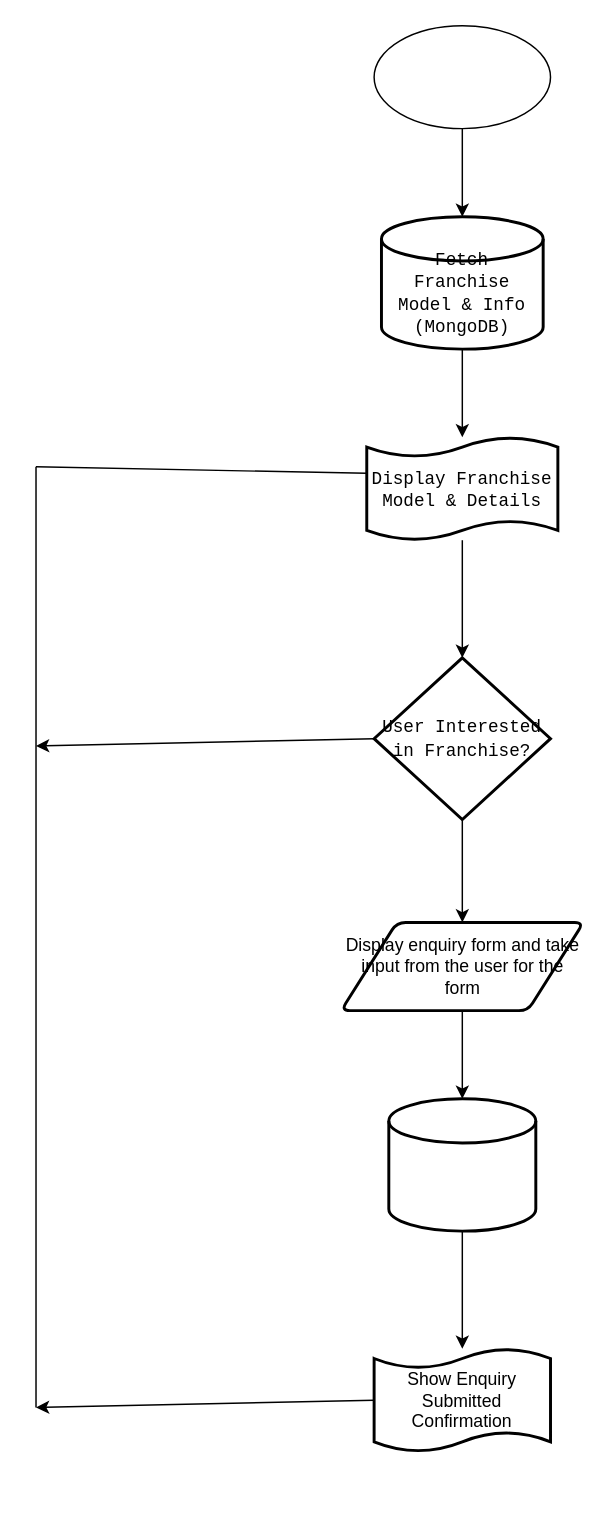
The diagram is 610 pixels wide and 1536 high, and some of its shapes have lost their labels. Here are the shapes that lost their labels. From the top down, the centre of each, then its label:
point 462,76: USER
point 462,1164: Store Franchise Enquiry (MongoDB)
